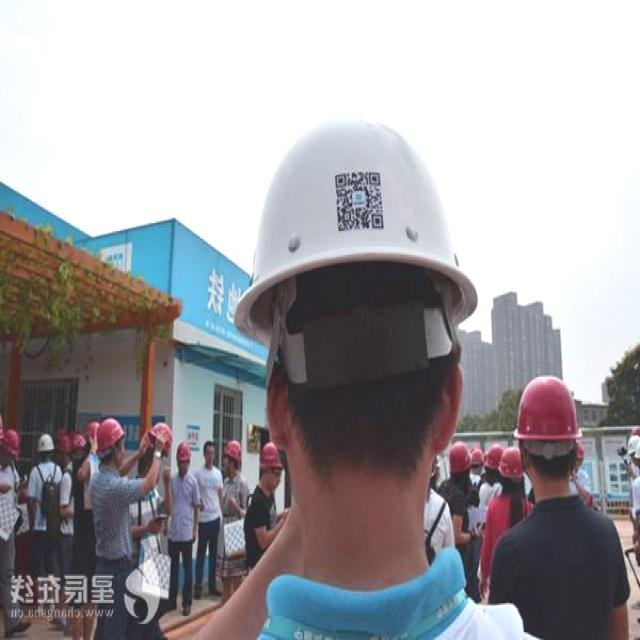head_helmet: (232, 96, 470, 322), (511, 369, 584, 439), (442, 435, 473, 470), (142, 412, 169, 452), (257, 439, 282, 475), (96, 416, 119, 452), (480, 436, 503, 467), (501, 444, 524, 473), (36, 428, 61, 452), (2, 433, 21, 459), (222, 436, 243, 456)
person: (231, 74, 509, 640), (496, 364, 628, 639), (425, 438, 478, 589), (88, 414, 134, 585), (480, 448, 532, 598), (168, 436, 198, 611), (136, 421, 166, 594), (197, 425, 226, 600), (1, 419, 32, 582), (217, 427, 246, 600), (252, 432, 280, 604), (27, 428, 59, 571)
